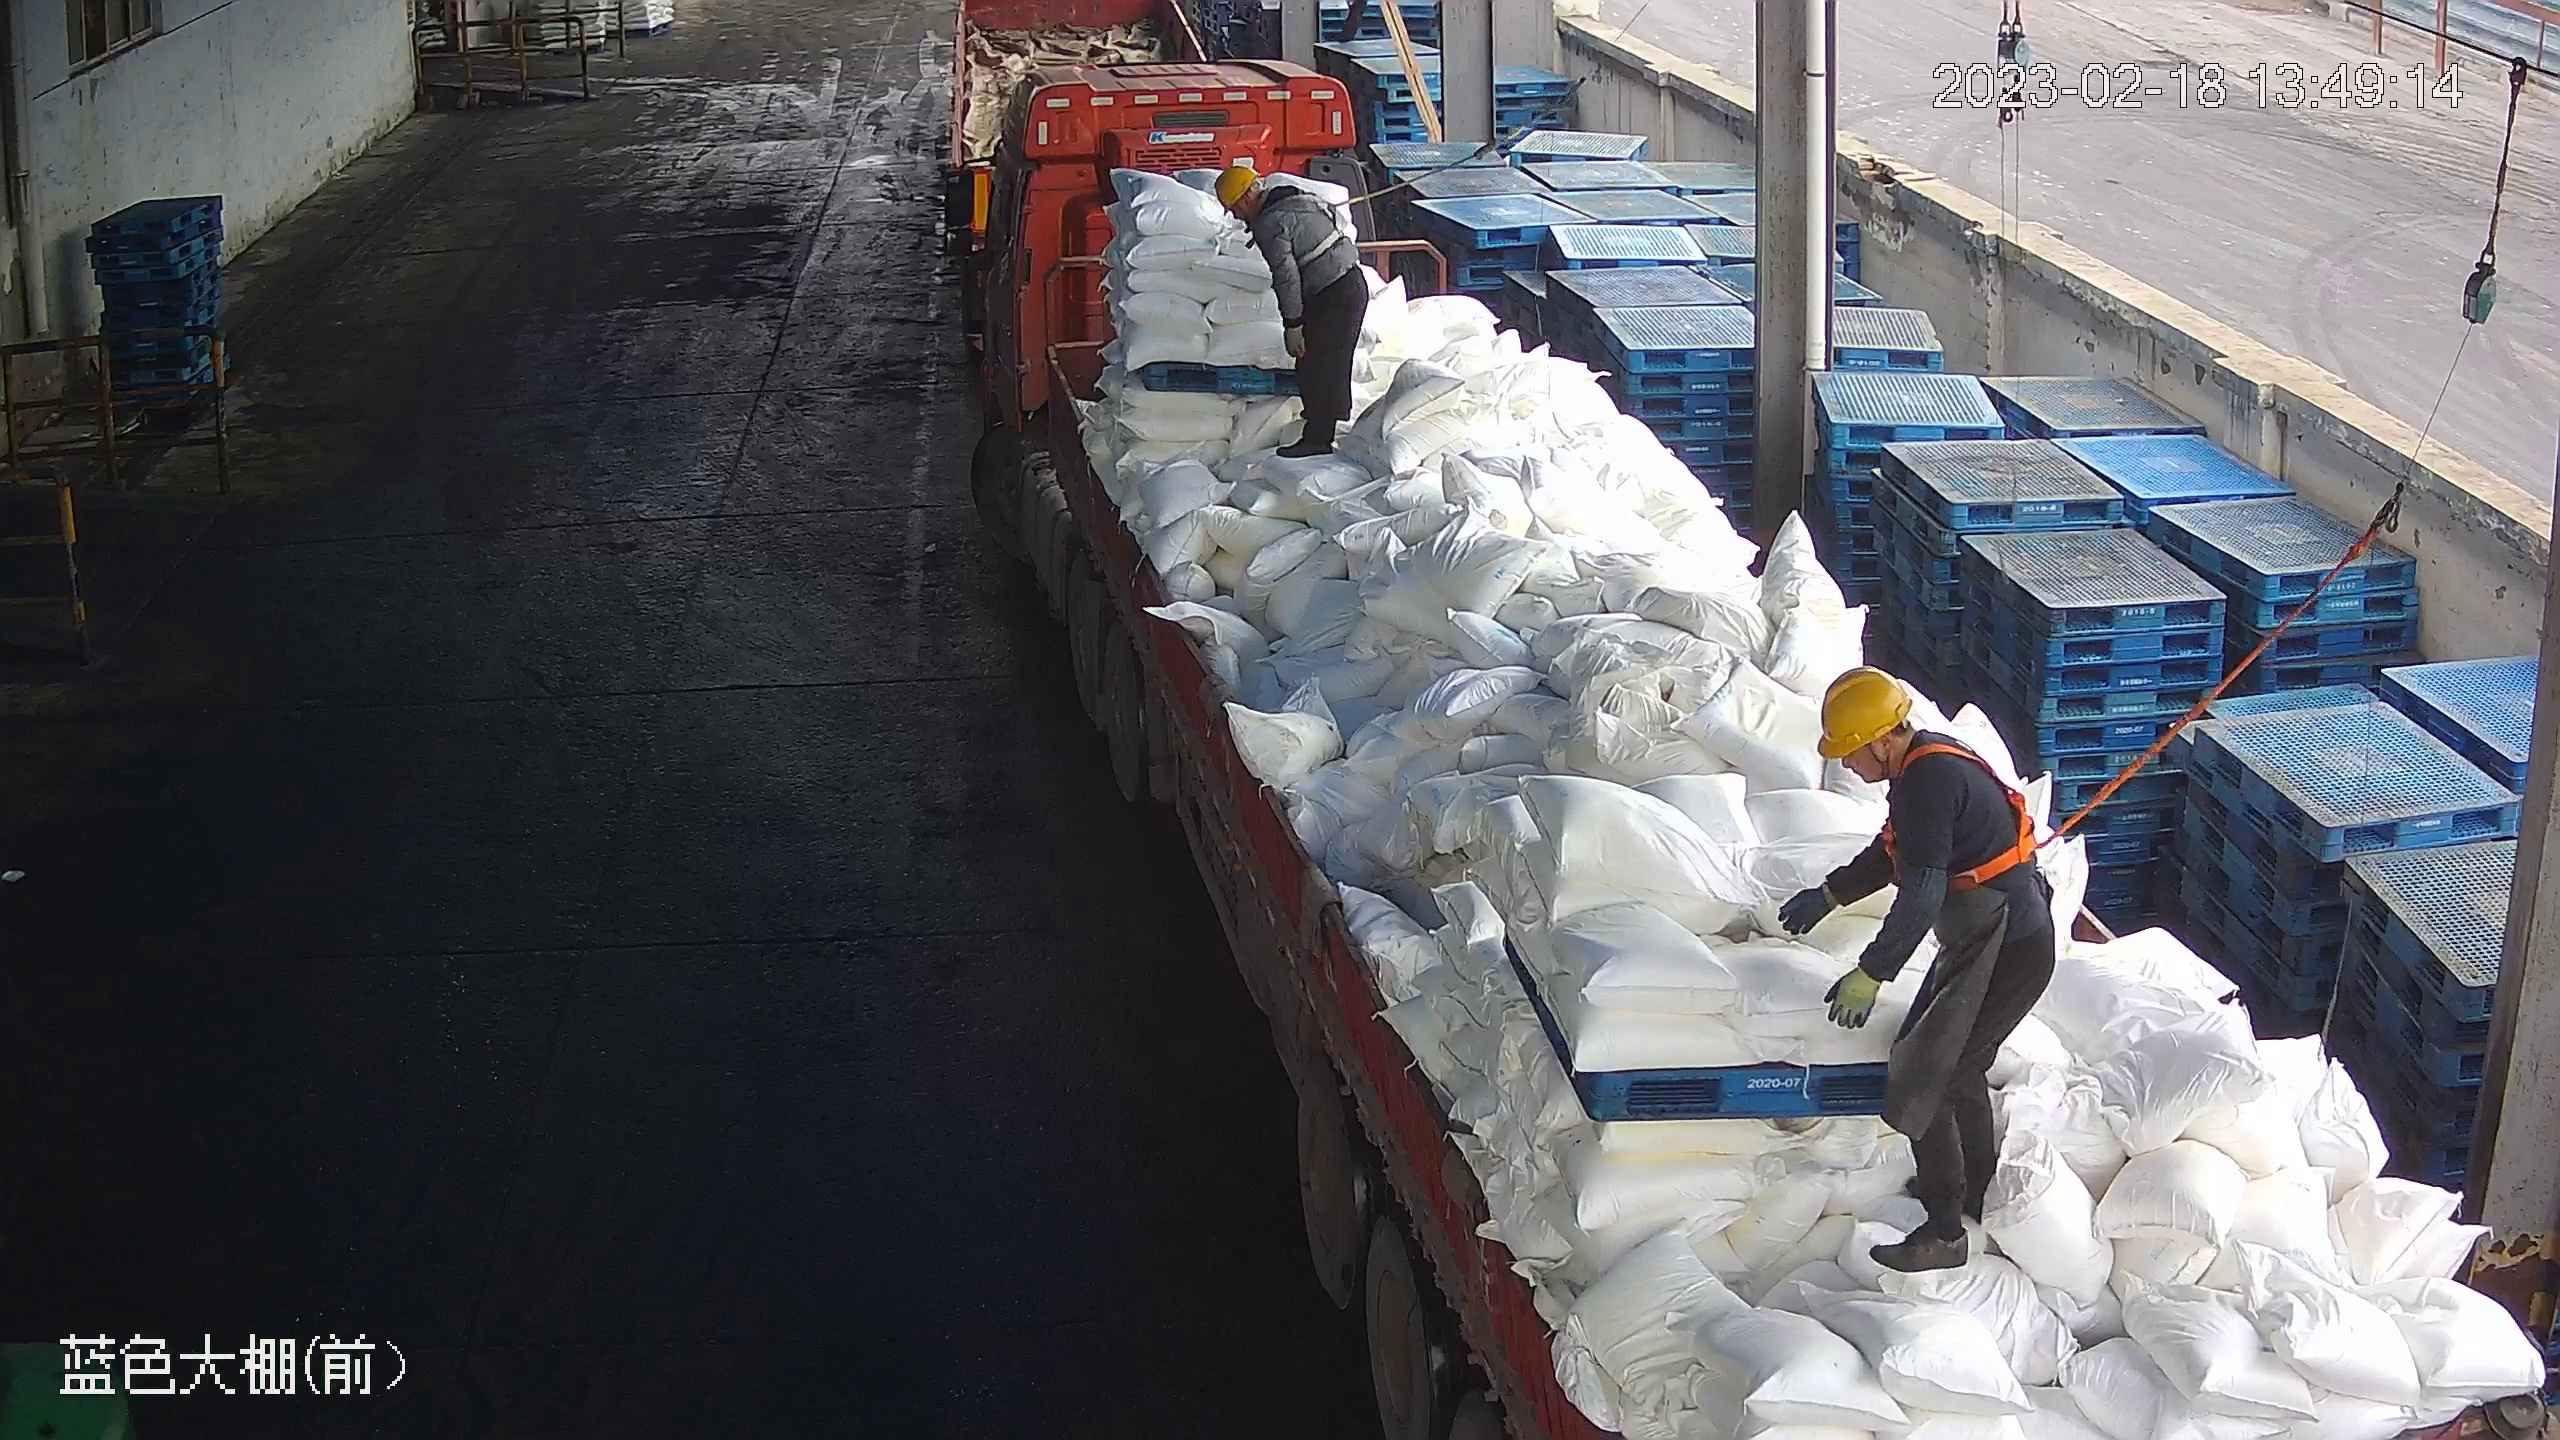belt: (1908, 725, 2073, 890), (1272, 177, 1368, 264)
head: (1810, 669, 2024, 875), (1211, 160, 1328, 250)
helmet: (1814, 668, 1917, 762), (1214, 162, 1258, 213)
people: (1775, 669, 2060, 1279), (1212, 155, 1374, 460)
truck: (948, 50, 2560, 1440)
